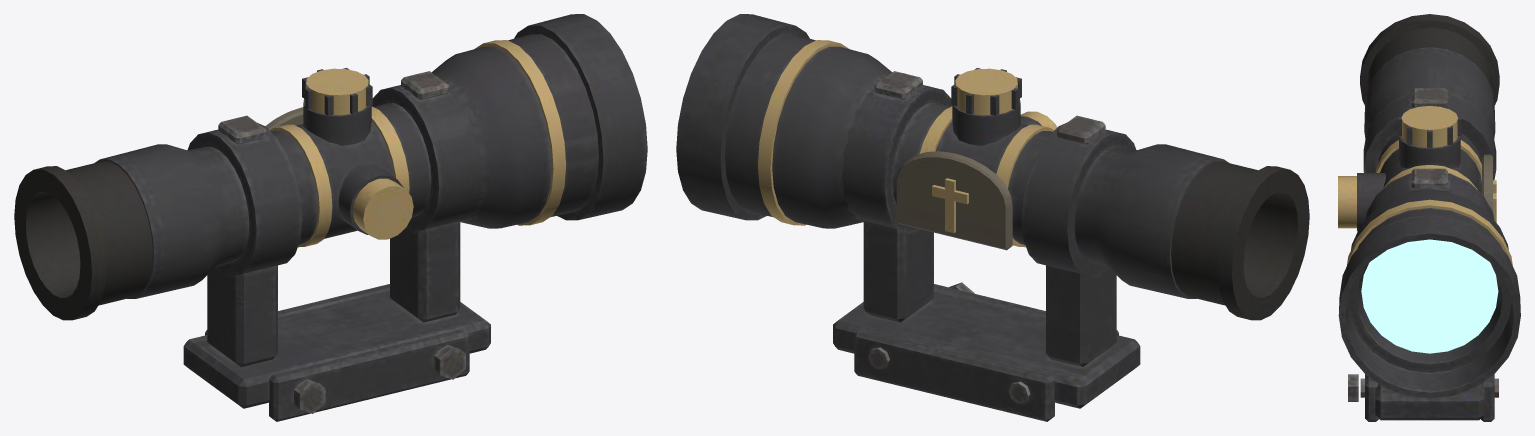
The model's file is gravesight.glb.
3 renders of one model, left to right at view 1: azimuth 30°, elevation 25°; view 2: azimuth 150°, elevation 25°; view 3: azimuth 270°, elevation 25°, orthographic. The views are drawn at different scales.
Parts seen in each view (by area): view 1: gravesight; view 2: gravesight; view 3: gravesight, Lens.
Boxes of the visible parts, x1,y1,x2,y2 form: gravesight: (14, 14, 647, 421); gravesight: (676, 14, 1309, 421); gravesight: (1338, 14, 1520, 421); Lens: (1361, 239, 1498, 353).
Bounding box in the file's own units: 0.155 × 0.0795 × 0.0502.
Materials: 3 (1 with a texture image).
